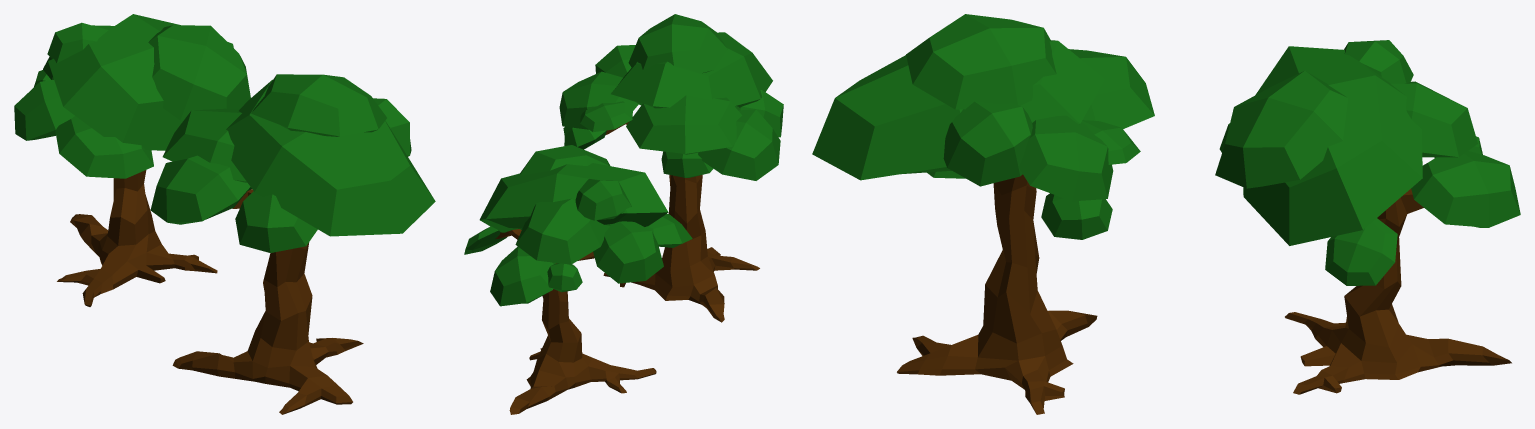
The picture shows the model from 3 angles, left to right: view 1: azimuth 30°, elevation 25°; view 2: azimuth 150°, elevation 25°; view 3: azimuth 270°, elevation 25°; orthographic projection. The views are drawn at different scales.
Parts seen in each view (by area): view 1: pCube26, thicc, pCube37, thiccc, pCube38, pCube31, pCube27, pCube45, pCube28, pCube32, pCube40, pCube41 (+1 smaller); view 2: pCube37, thicc, thiccc, pCube26, pCube32, pCube44, pCube31, pCube27, pCube40, pCube39, pCube30, pCube41 (+9 smaller); view 3: pCube37, thicc, pCube26, thiccc, pCube38, pCube31, pCube39, pCube30, pCube34, pCube44, pCube32, pCube43 (+3 smaller).
Boxes of the visible parts, x1,y1,x2,y2 form: pCube26: [226, 79, 435, 236]; thicc: [172, 189, 363, 414]; pCube37: [48, 14, 233, 150]; thiccc: [57, 170, 217, 306]; pCube38: [148, 25, 250, 120]; pCube31: [251, 74, 386, 136]; pCube27: [150, 155, 250, 224]; pCube45: [55, 116, 153, 178]; pCube28: [235, 191, 317, 252]; pCube32: [162, 108, 246, 182]; pCube40: [14, 80, 74, 140]; pCube41: [47, 22, 108, 63]; pCube37: [479, 163, 668, 232]; thicc: [603, 122, 759, 322]; thiccc: [495, 229, 656, 414]; pCube26: [611, 32, 772, 108]; pCube32: [626, 95, 741, 154]; pCube44: [515, 198, 609, 264]; pCube31: [628, 14, 727, 73]; pCube27: [698, 109, 780, 180]; pCube40: [593, 221, 663, 283]; pCube39: [490, 246, 555, 306]; pCube30: [559, 71, 638, 129]; pCube41: [575, 179, 631, 220]; pCube37: [1243, 46, 1422, 245]; thicc: [897, 174, 1097, 414]; pCube26: [812, 40, 1104, 180]; thiccc: [1285, 188, 1511, 394]; pCube38: [1215, 70, 1347, 188]; pCube31: [906, 14, 1056, 109]; pCube39: [1411, 151, 1520, 227]; pCube30: [1019, 115, 1113, 201]; pCube34: [943, 101, 1032, 186]; pCube44: [1391, 81, 1477, 157]; pCube32: [1069, 49, 1154, 128]; pCube43: [1325, 218, 1397, 285].
Size of the model in its own units: 5314 by 6231 by 11381.
